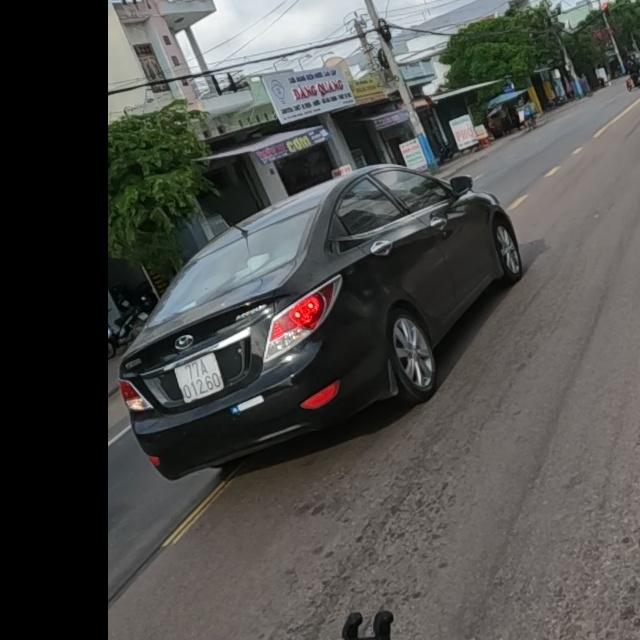license-plate: (173, 353, 224, 404)
